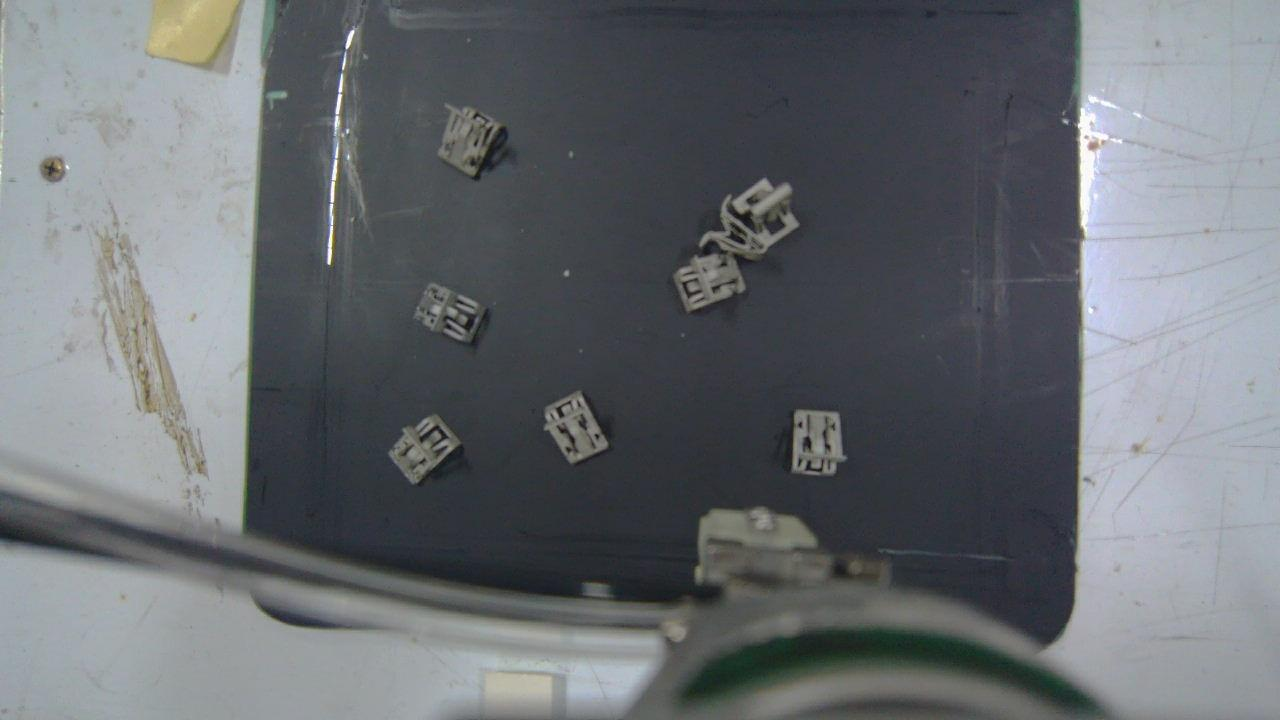ng: (389, 412, 462, 484), (438, 104, 506, 180), (544, 389, 609, 464), (412, 282, 489, 344), (673, 252, 749, 312), (698, 191, 767, 257), (793, 409, 847, 476)
pass: (732, 178, 802, 248)
